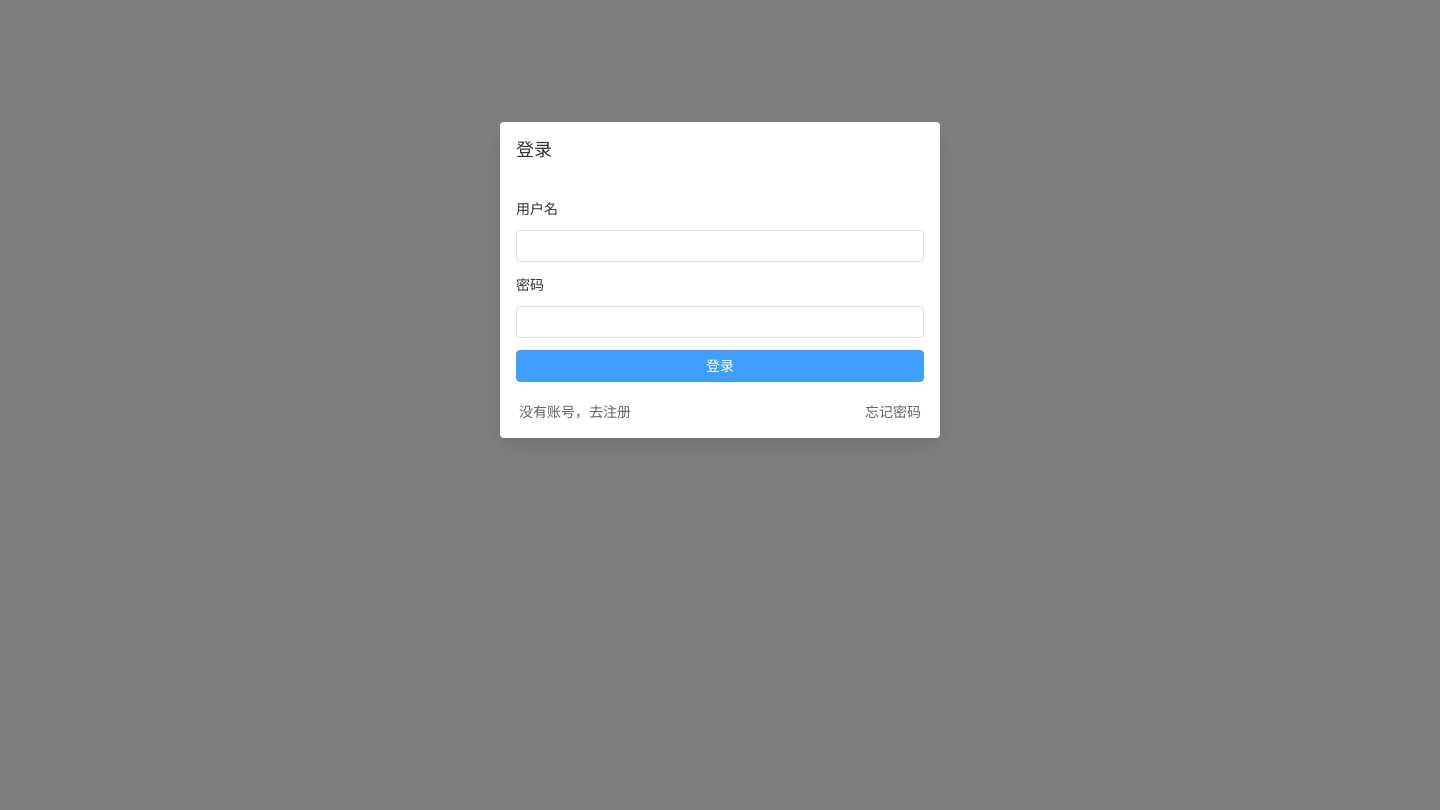
登录注册弹窗 › 拒绝不符合规则的用户名和不一致密码
The image size is (1440, 810).
Click the button "没有账号，去注册".
click(575, 412)  # box [516,402,634,422]
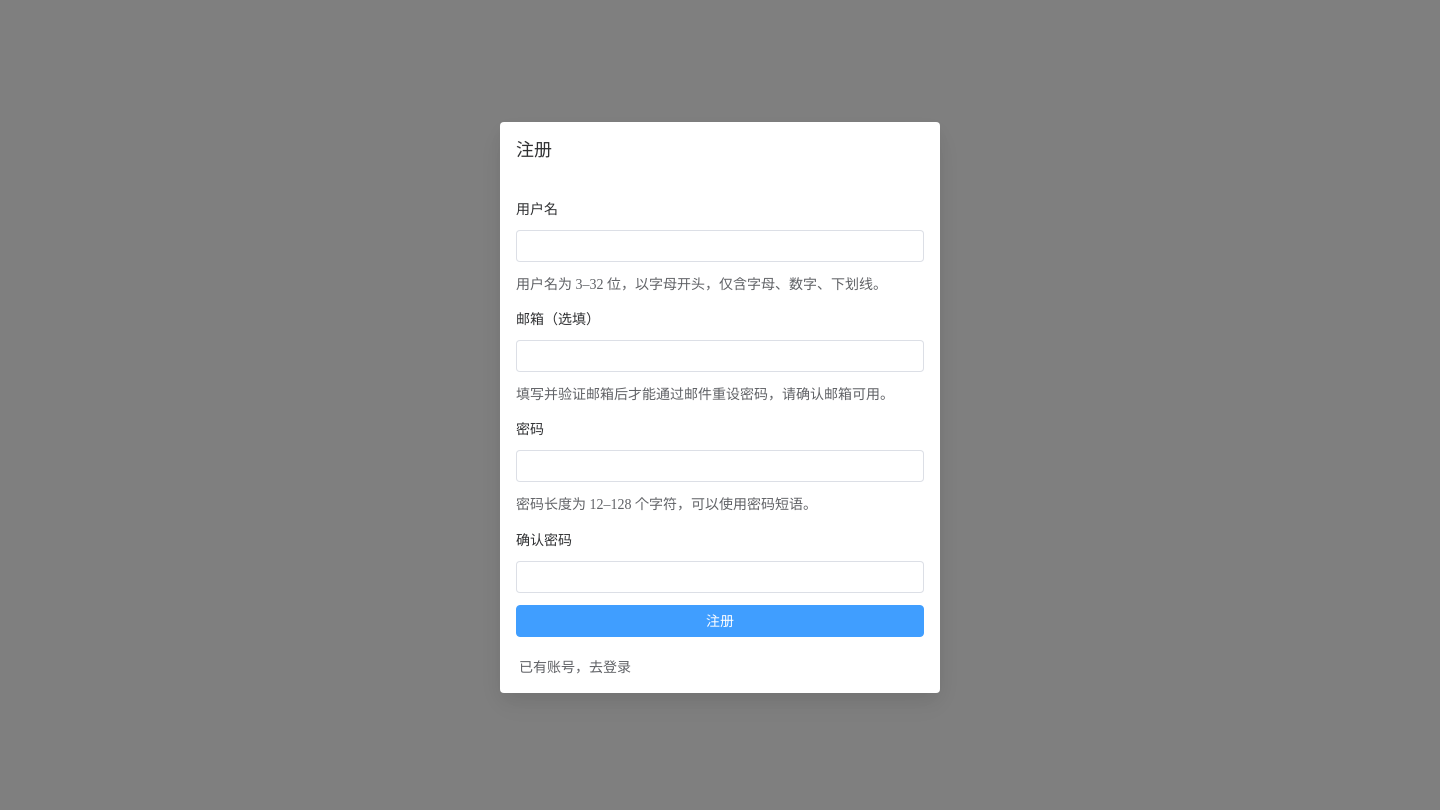
Type "<script>" into the field with id "auth-username".
click(720, 246); type("<script>")  # box [527,230,913,260]
Type "a valid password" into the password field with id "auth-password".
click(720, 466); type("a valid password")  # box [527,451,913,481]
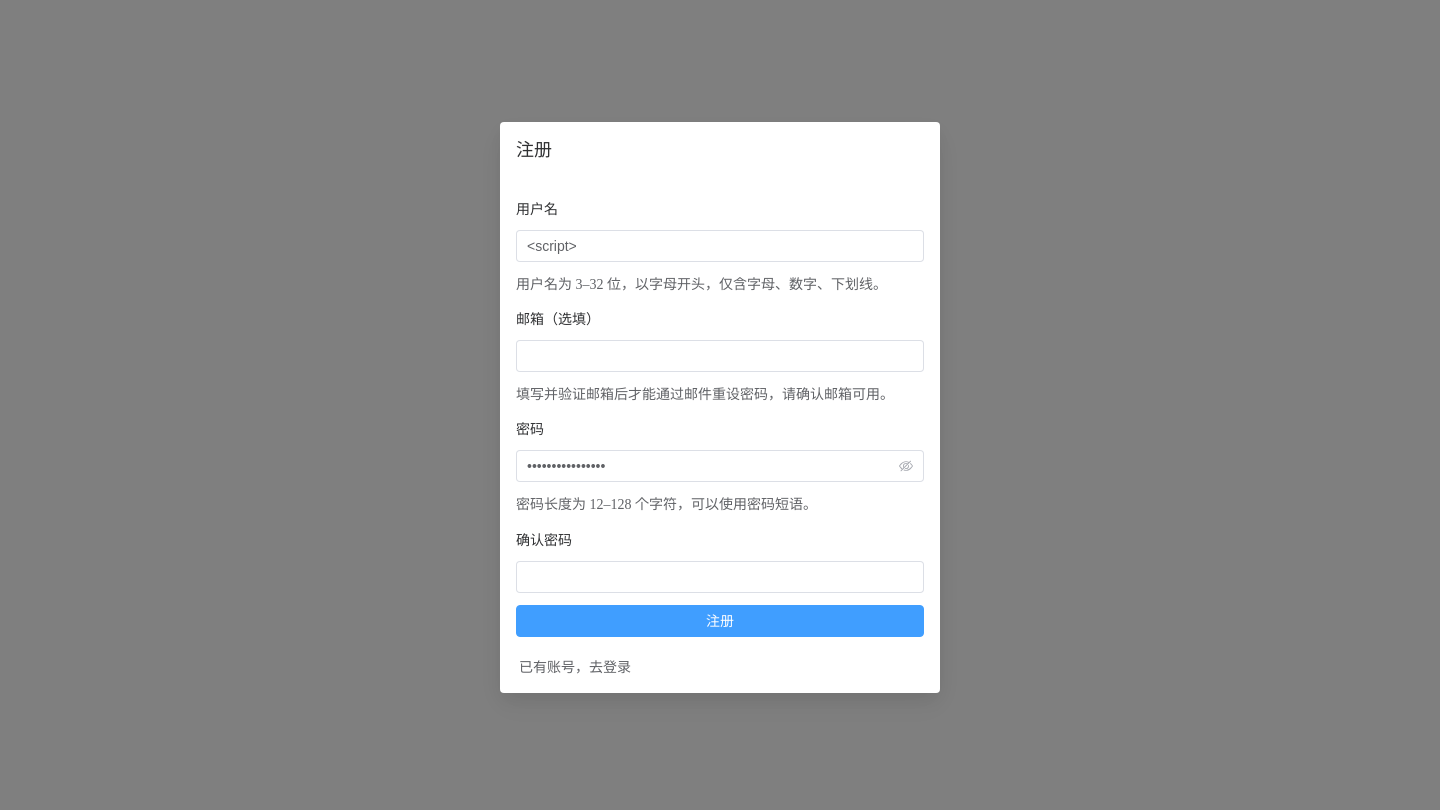
Type "different password" into the password field with id "auth-password-confirm".
click(720, 577); type("different password")  # box [527,562,913,592]
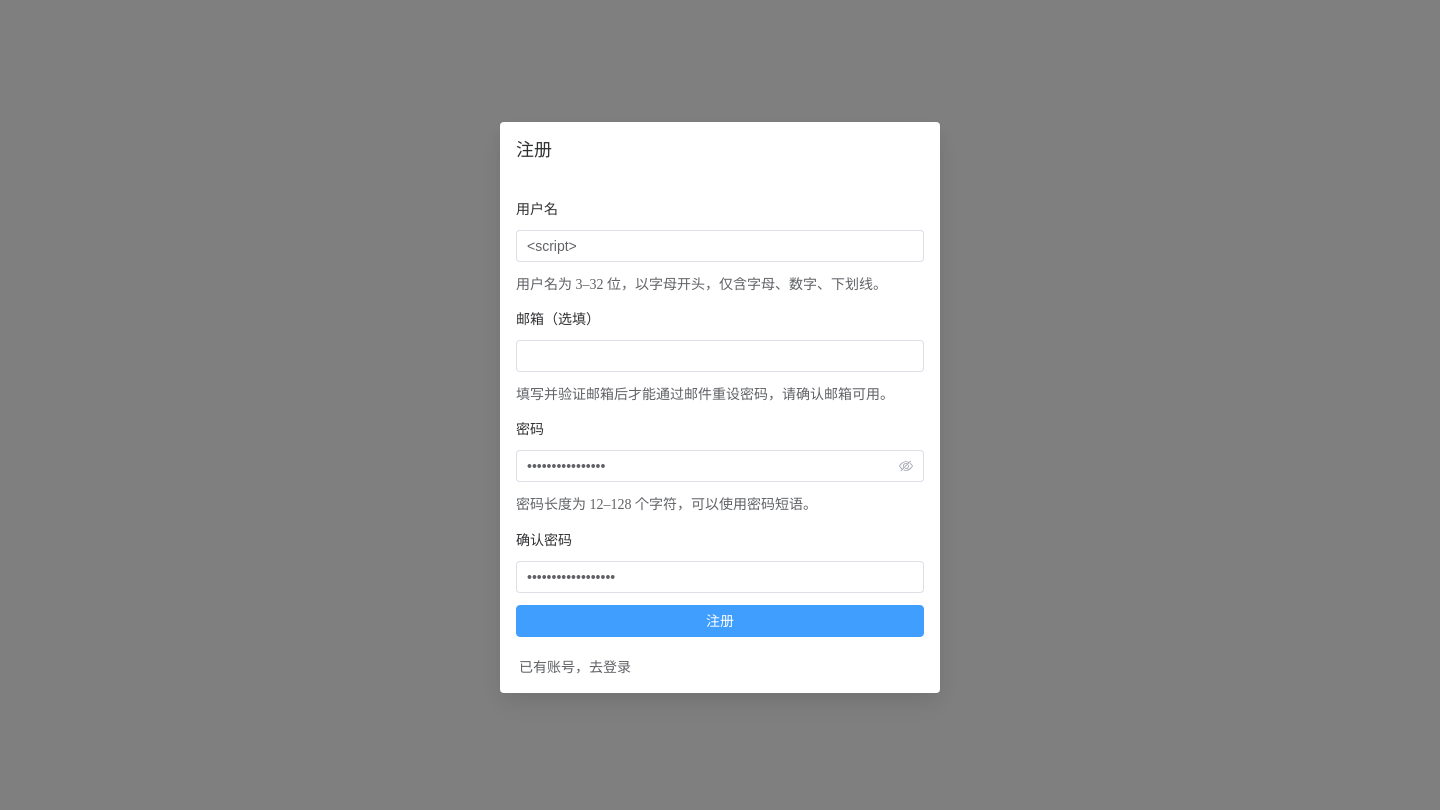
Submit the form, box [516,198,924,637]
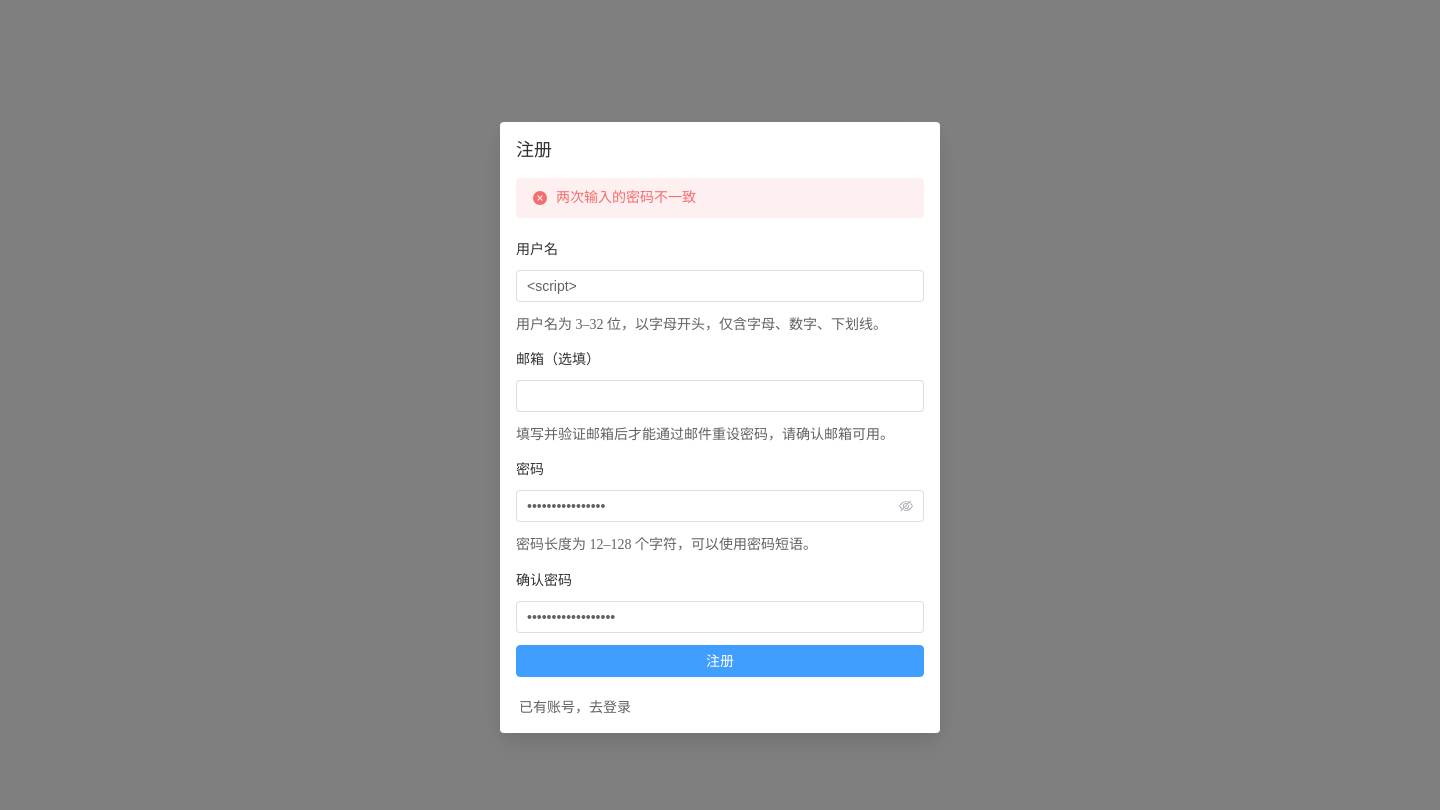
expect the text "两次输入的密码不一致" is shown: met, box [556,186,696,210]
Type "a valid password" into the password field with id "auth-password-confirm".
click(720, 617); type("a valid password")  # box [527,602,913,632]
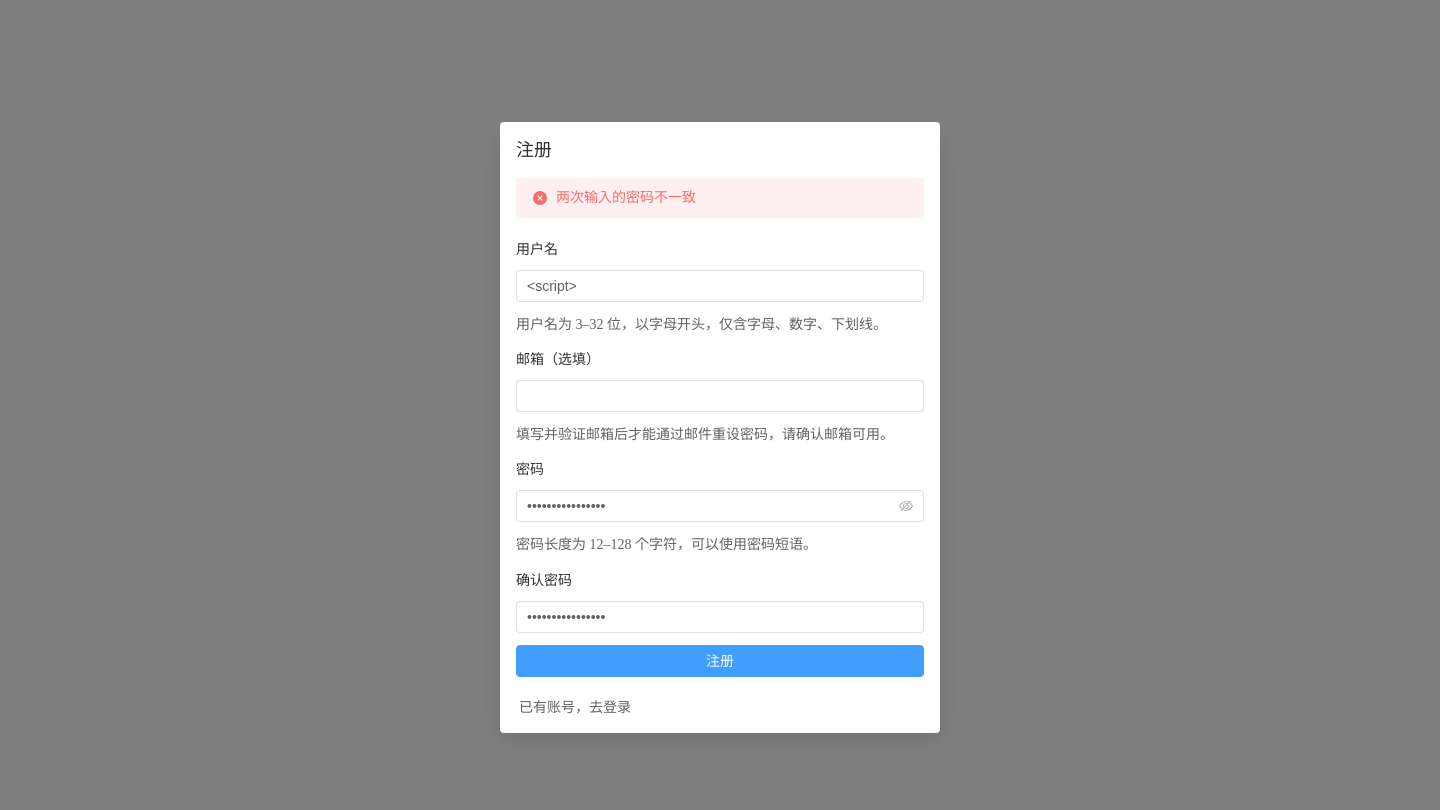
Submit the form, box [516,238,924,677]
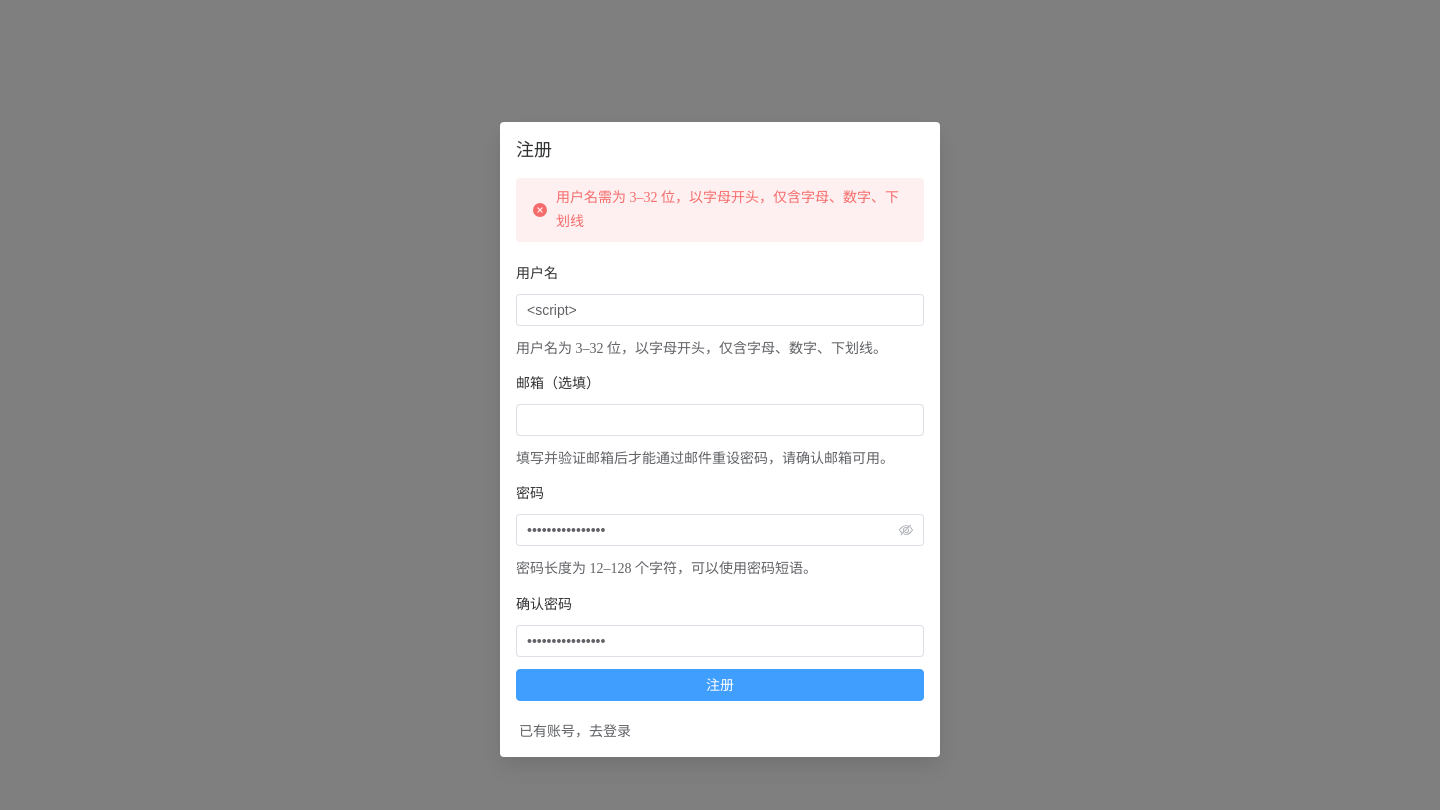
expect the text "用户名需为" is shown: met, box [556,190,899,228]
